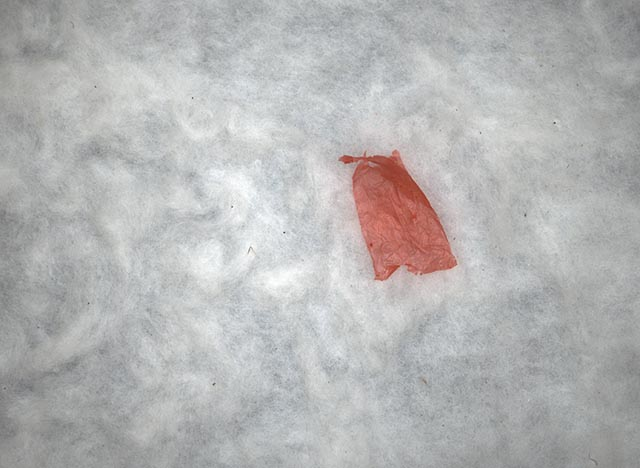plastic film: (338, 147, 459, 284)
